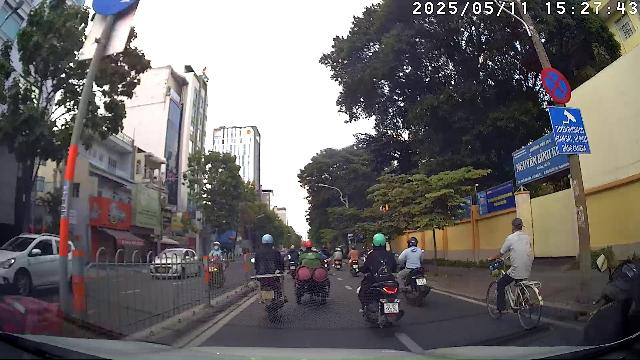130-cam-dung-va-do-xe: (540, 66, 572, 103)
